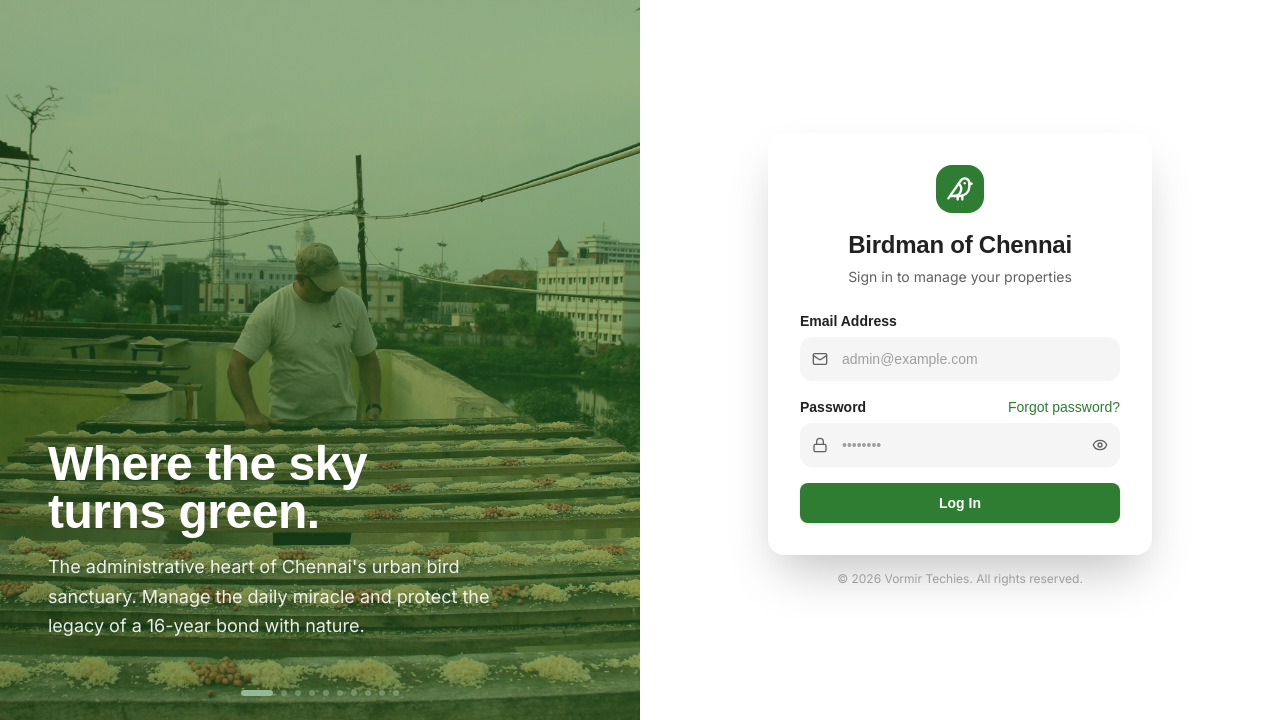
Login Page › Login View - Form Submission › shows error message on invalid credentials
Type "wrong@example.com" into the field labelled "Email Address" at (960, 359), box [800,337,1120,381]
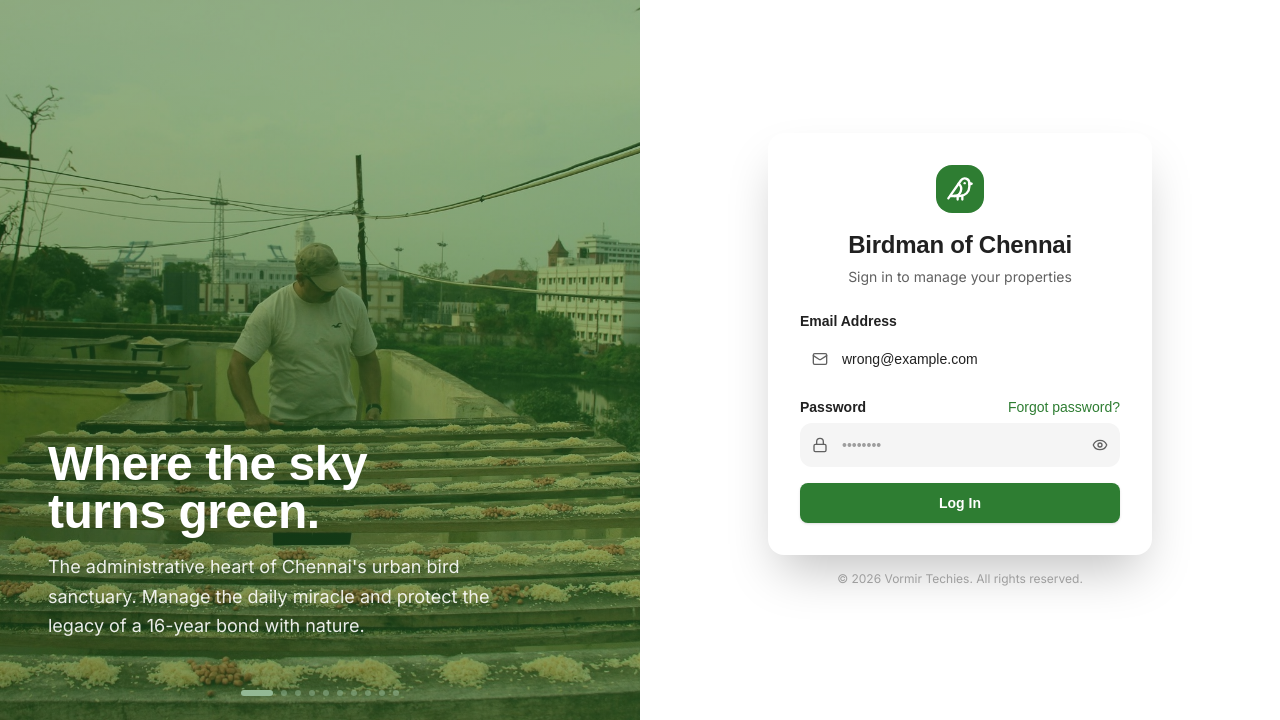
Type "wrongpassword" into the password field labelled "Password" at (960, 445), box [800,423,1120,467]
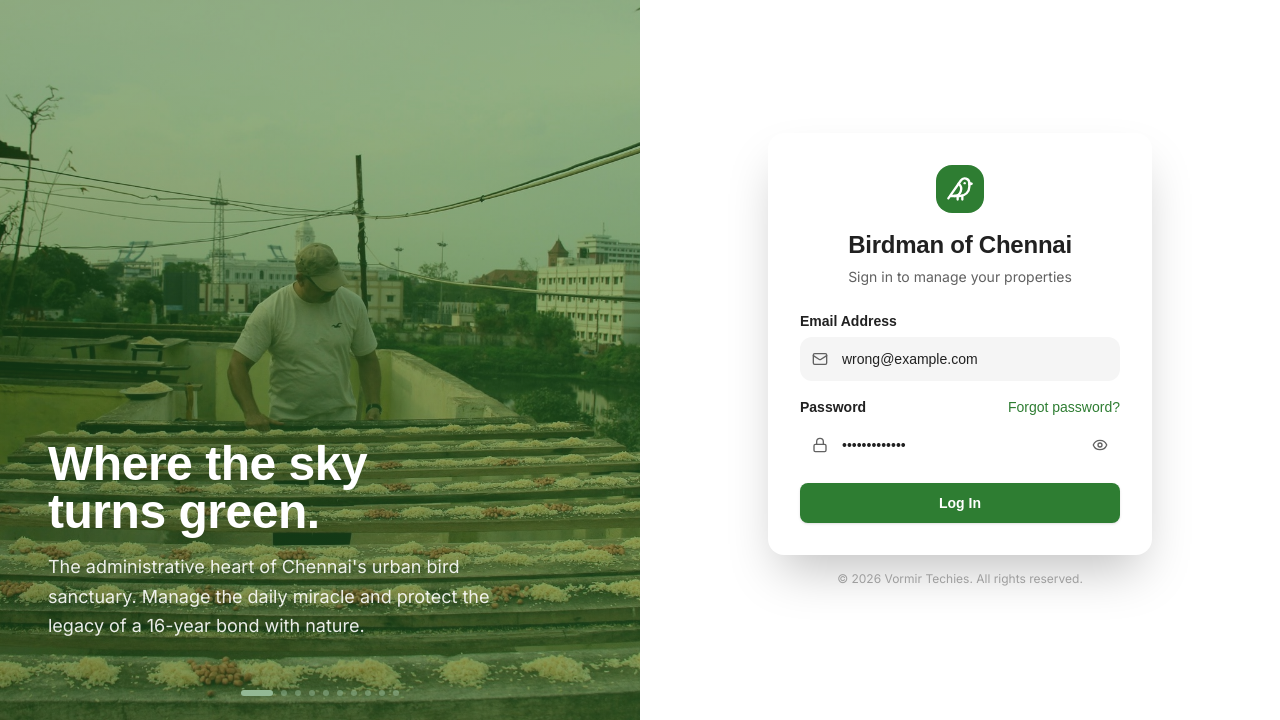
Click the button "Log In" at (960, 503), box [800,483,1120,523]
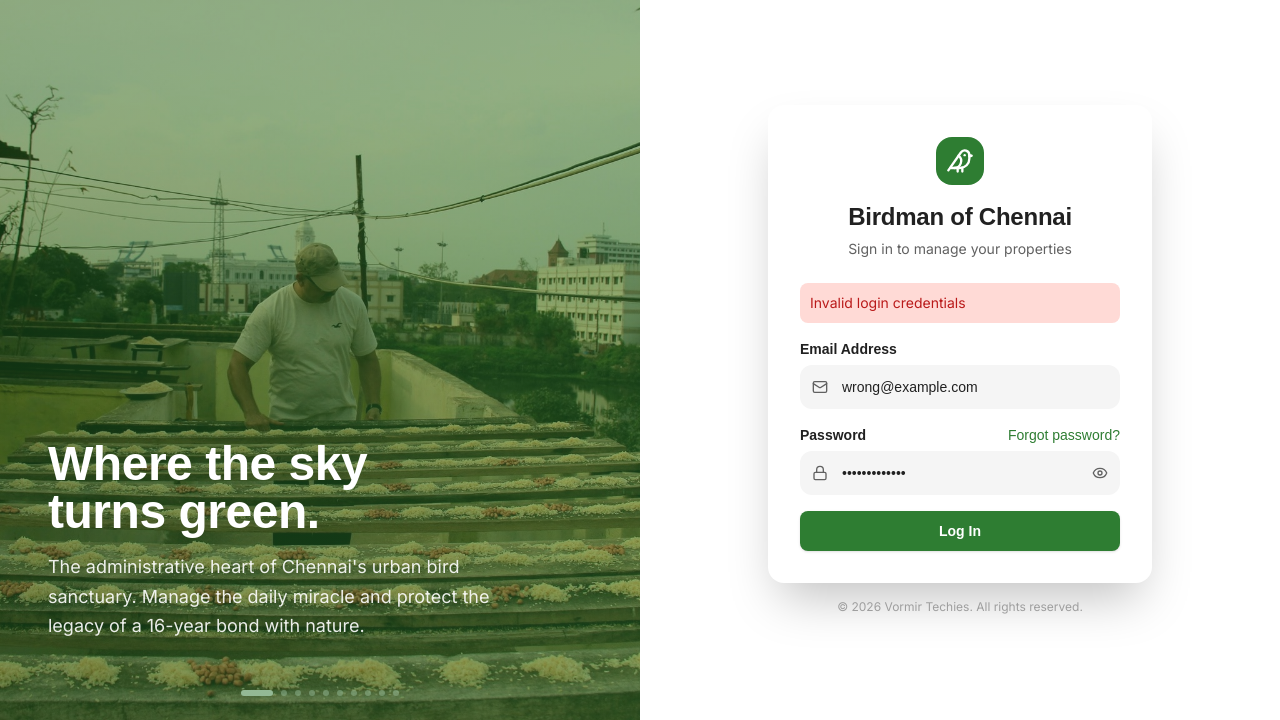
Expected: the text "Invalid login credentials" is shown, [800,283,1120,323]
